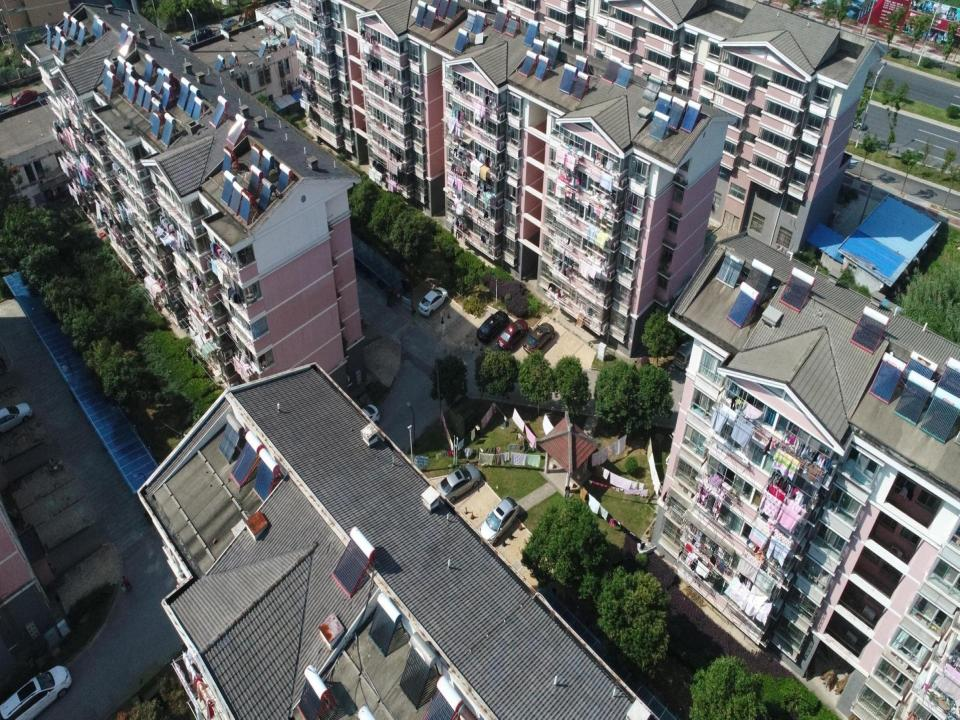car: (0, 664, 73, 719), (479, 496, 520, 546), (436, 463, 481, 503), (476, 310, 510, 344), (0, 402, 33, 437), (523, 322, 555, 354), (497, 319, 528, 352), (417, 286, 448, 317), (354, 403, 380, 429), (11, 89, 39, 107), (190, 26, 212, 43), (848, 113, 866, 130), (218, 18, 238, 32), (168, 36, 188, 48)
van: (672, 337, 696, 370)
